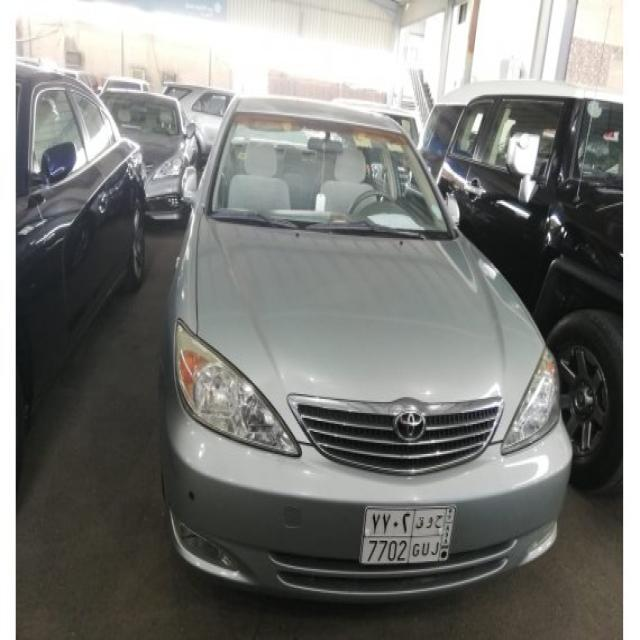license_plate: (357, 503, 458, 567)
